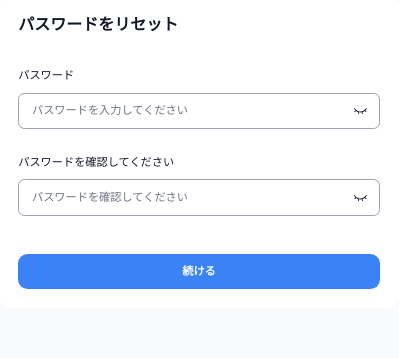
Test case: ResetPasswordForm › 入力が正常の場合はresetPasswordActionが呼ばれて,成功メッセージが表示される
Type "validPassword1" into the password field labelled "パスワード".
click(199, 111); type("validPassword1")  # box 18,93 -> 380,129
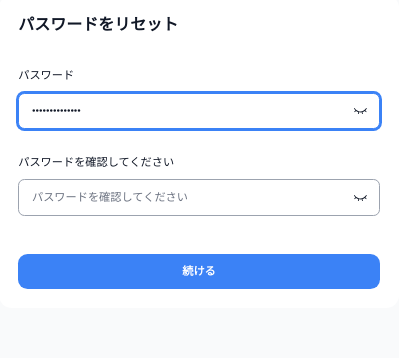
Type "validPassword1" into the password field labelled "パスワードを確認してください".
click(199, 197); type("validPassword1")  # box 18,179 -> 380,216
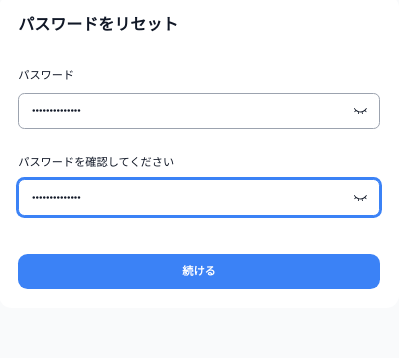
Click the button "続ける".
click(199, 272)  # box 18,254 -> 380,289
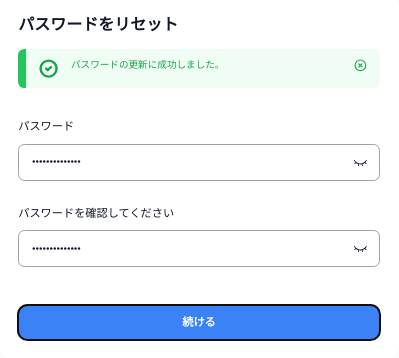
Result: the text "パスワードの更新に成功しました。" is shown at 71,59 -> 224,72
